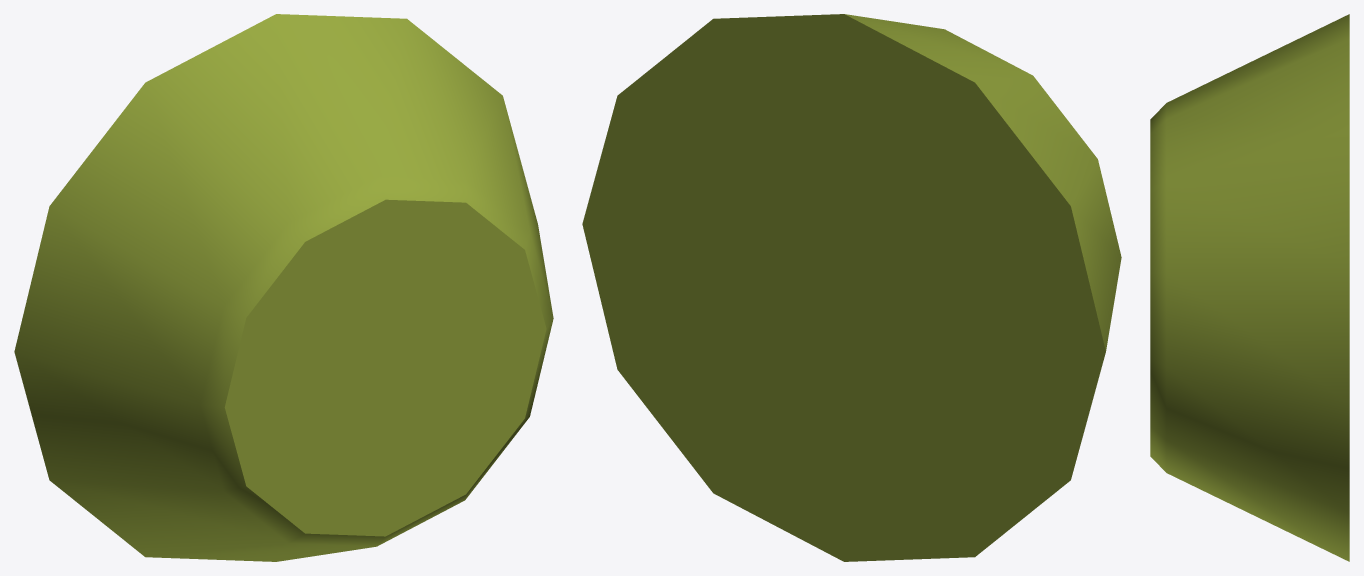
The model's file is Tarot_Card_Cable_Base_02.fbx.
3 renders of one model, left to right at view 1: azimuth 30°, elevation 25°; view 2: azimuth 150°, elevation 25°; view 3: azimuth 270°, elevation 25°, orthographic. The views are drawn at different scales.
Visible parts, largest first — view 1: Tarot_Card_Cable_Base_02; view 2: Tarot_Card_Cable_Base_02; view 3: Tarot_Card_Cable_Base_02.
Part boxes in pixels (x1,y1,x2,y2): Tarot_Card_Cable_Base_02: [14, 14, 553, 561]; Tarot_Card_Cable_Base_02: [582, 14, 1121, 561]; Tarot_Card_Cable_Base_02: [1150, 14, 1349, 561].
Bounding box in the file's own units: 3.58 × 3.58 × 1.29.
